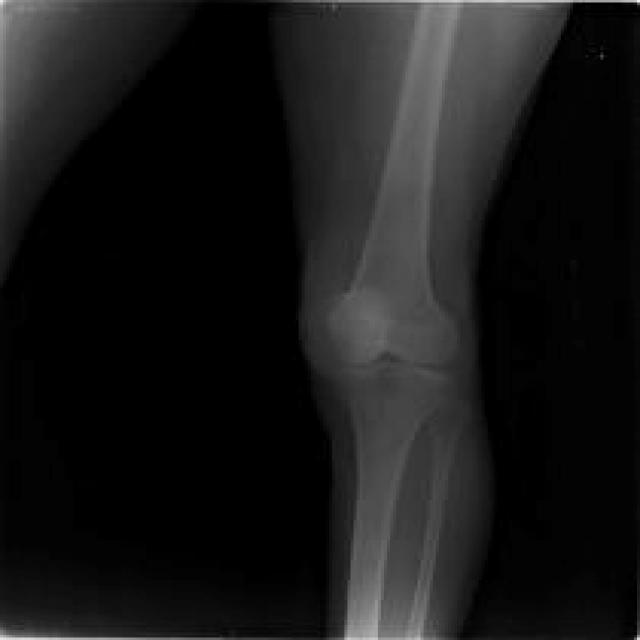normal: (325, 2, 461, 364), (337, 368, 473, 640)
